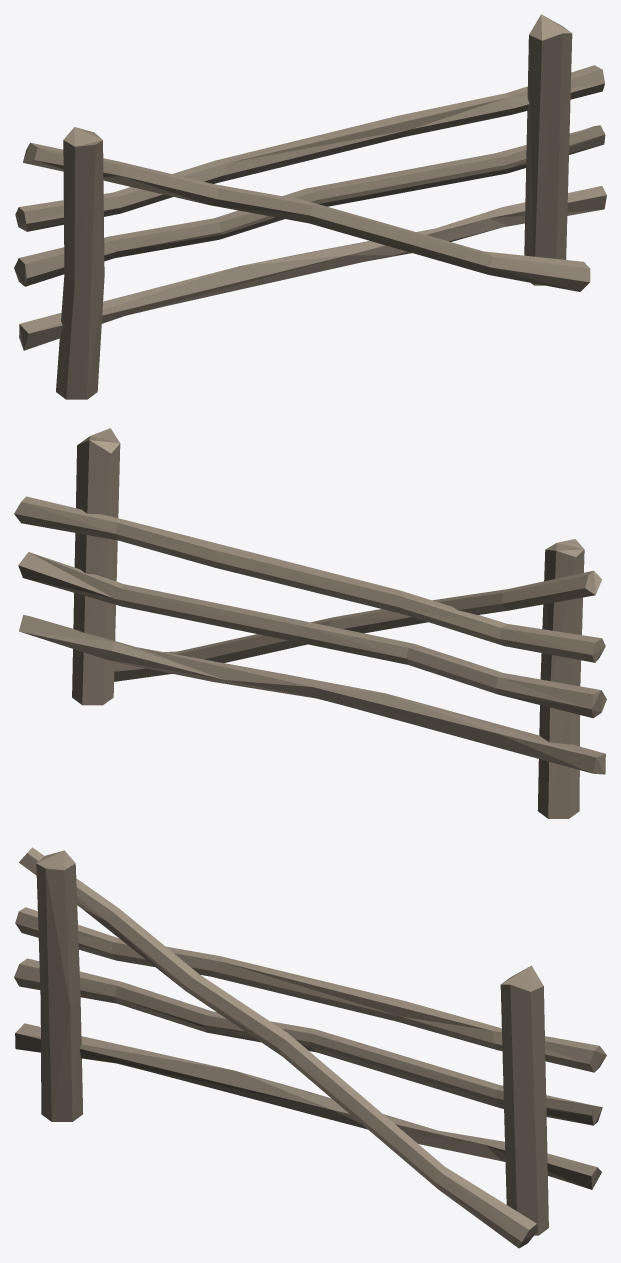
Rendered from fence_wood_02c.glb.
The picture shows the model from 3 angles, top to bottom: view 1: azimuth 30°, elevation 25°; view 2: azimuth 150°, elevation 25°; view 3: azimuth 330°, elevation 25°; orthographic projection.
Visible parts, largest first — view 1: estructura.cerca.env_fence_wood_02c; view 2: estructura.cerca.env_fence_wood_02c; view 3: estructura.cerca.env_fence_wood_02c.
Boxes of the visible parts, bbox=[...] form: estructura.cerca.env_fence_wood_02c: bbox=[14, 14, 606, 399]; estructura.cerca.env_fence_wood_02c: bbox=[14, 428, 606, 818]; estructura.cerca.env_fence_wood_02c: bbox=[14, 847, 606, 1248].
Size of the model in its own units: 3.69 by 1.6 by 0.4733.
